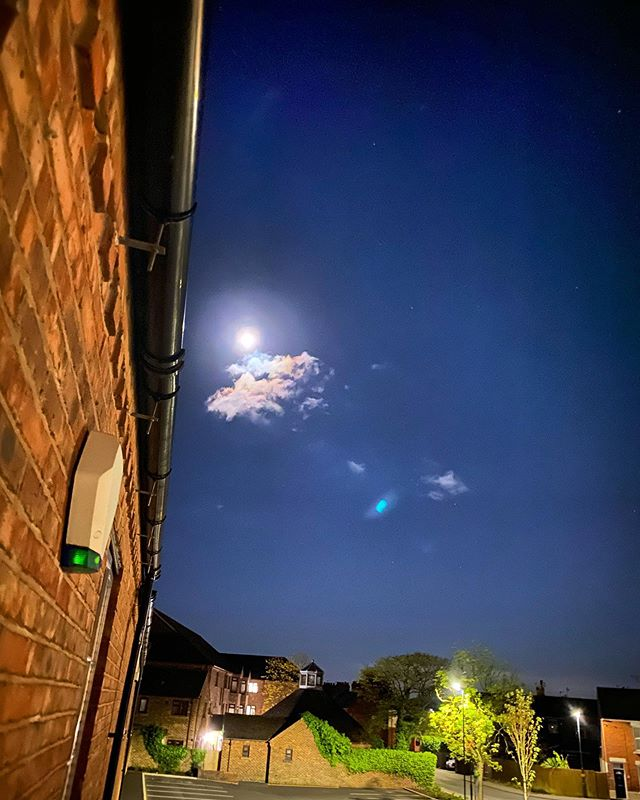building: (1, 1, 185, 782), (141, 615, 300, 770), (222, 692, 433, 797)
moon: (230, 325, 260, 352)
sky: (188, 1, 640, 624)
tree: (429, 671, 497, 800), (485, 671, 553, 800)
